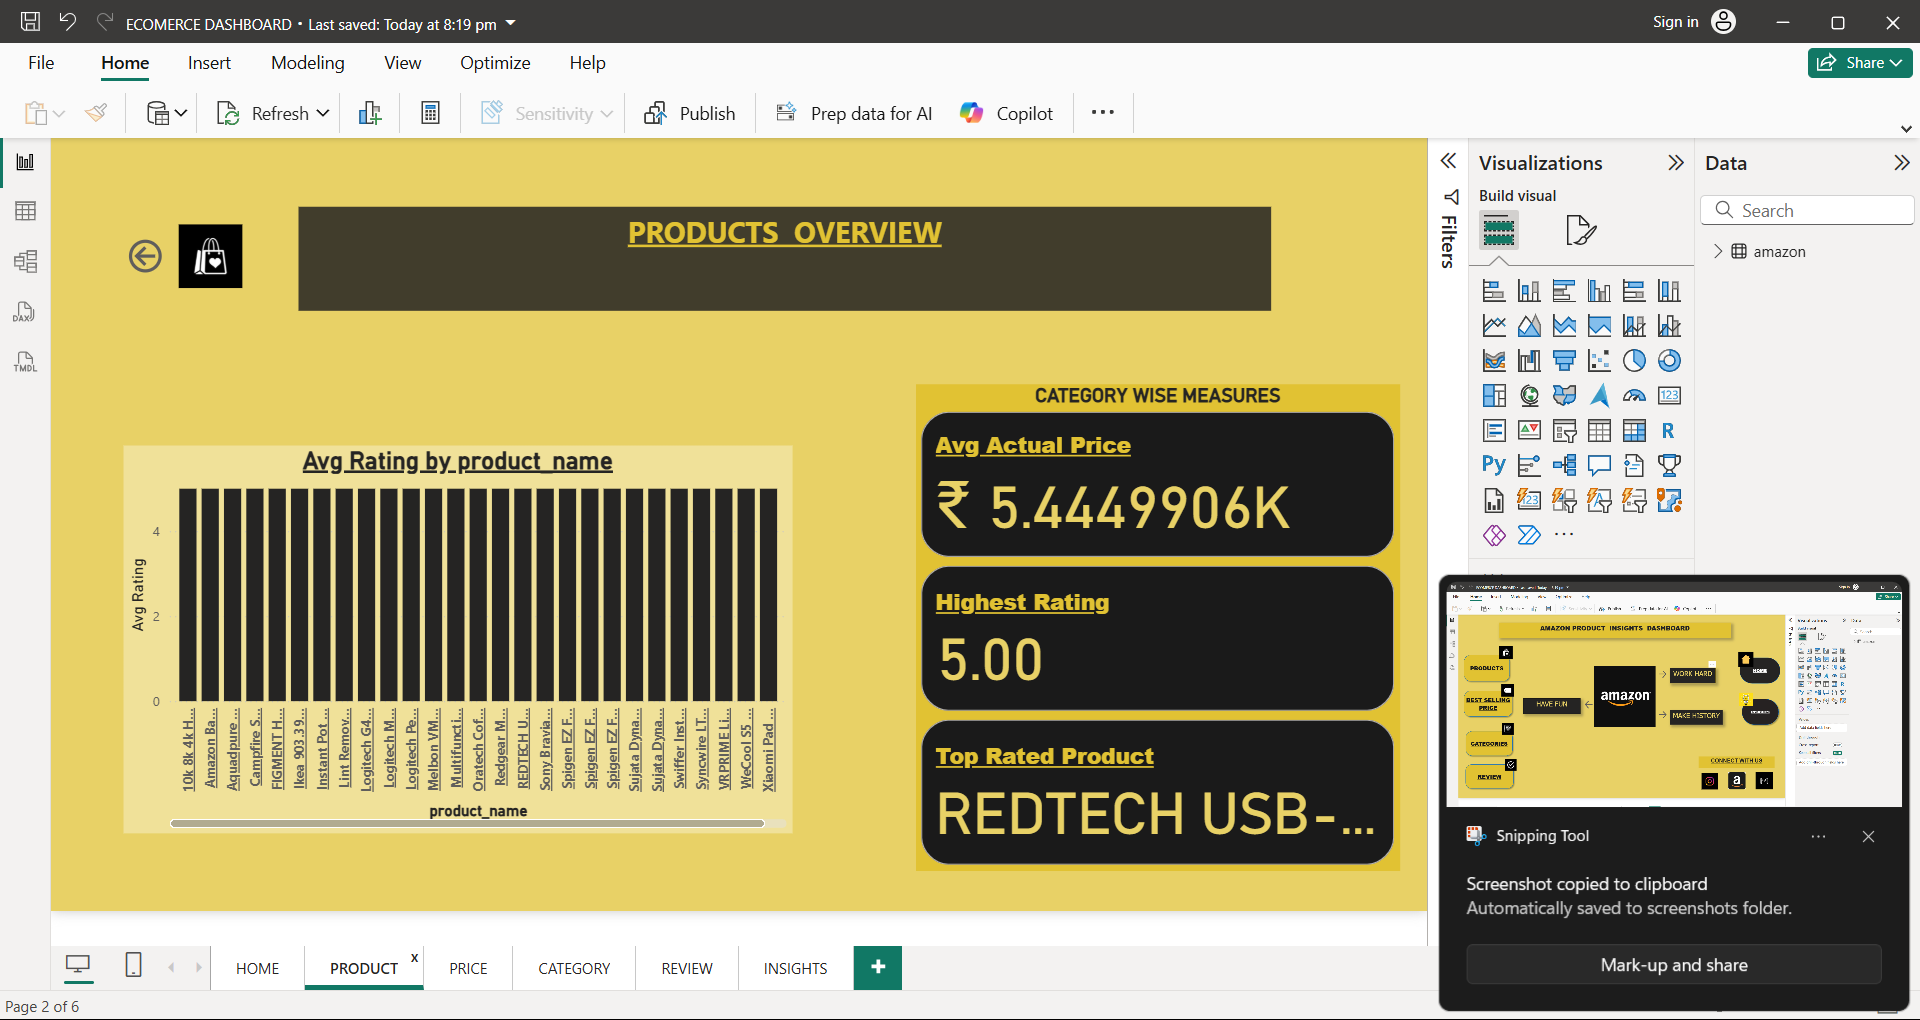

The dashboard page shown, as its layout file describes it:
{"tool":"powerbi","page":{"name":"PRODUCT","canvas":[1280,720],"ordinal":1},"visuals":[{"type":"cardVisual","title":"CATEGORY WISE MEASURES","fields":{"Data":["amazon.Avg Actual Price","amazon.Highest Rating","amazon.Top Rated Product"]},"box":[804.7,229.2,450,452.4],"z":0},{"type":"image","box":[50,75,196.9,68.8],"z":1000},{"type":"lineClusteredColumnComboChart","fields":{"Category":["amazon.product_name"],"Y":["amazon.Avg Rating"]},"box":[67.4,286.6,622.1,360.8],"z":2000},{"type":"textbox","box":[229.7,64.1,904.7,96.9],"z":3000},{"type":"actionButton","box":[67.2,89.1,100,40.6],"z":4000}]}

Visuals, with their boxes on the page's 1280x720 design canvas (x1, y1, x2, y2). These are canvas units, not pixel positions in the 1920x1020 screenshot, which may show the page scaled, cropped or inside an application window:
"CATEGORY WISE MEASURES" cardVisual: Rect(805, 229, 1255, 682)
image: Rect(50, 75, 247, 144)
lineClusteredColumnComboChart - amazon.product_name x amazon.Avg Rating: Rect(67, 287, 690, 647)
textbox: Rect(230, 64, 1134, 161)
actionButton: Rect(67, 89, 167, 130)
